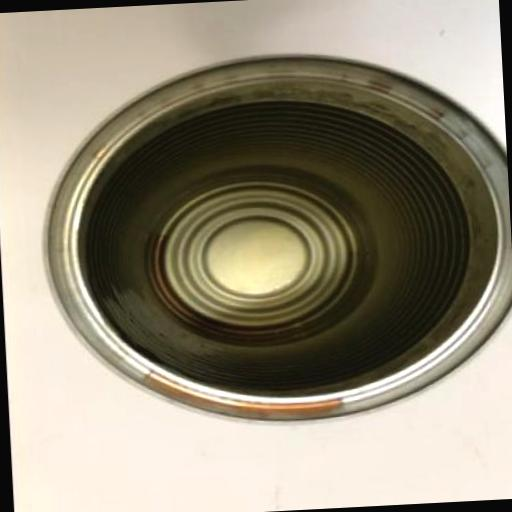metal: (33, 42, 512, 435)
